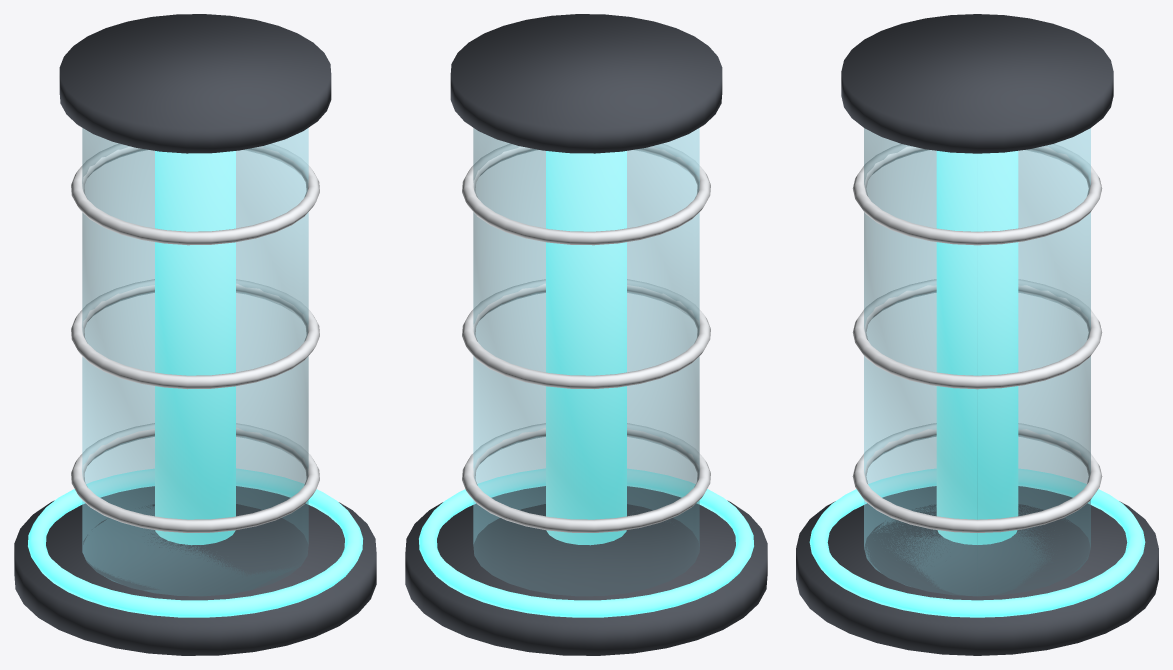
The model's file is reactor_core_plasma_column.glb.
3 views of the same model, side by side, from view 1: azimuth 30°, elevation 25°; view 2: azimuth 150°, elevation 25°; view 3: azimuth 270°, elevation 25° (orthographic).
Parts seen in each view (by area): view 1: GD_reactor_core_plasma_column__m2, GD_reactor_core_plasma_column__m0, GD_reactor_core_plasma_column__m1, GD_reactor_core_plasma_column__m3; view 2: GD_reactor_core_plasma_column__m2, GD_reactor_core_plasma_column__m0, GD_reactor_core_plasma_column__m1, GD_reactor_core_plasma_column__m3; view 3: GD_reactor_core_plasma_column__m2, GD_reactor_core_plasma_column__m0, GD_reactor_core_plasma_column__m1, GD_reactor_core_plasma_column__m3.
Part boxes in pixels (bbox=[...]): GD_reactor_core_plasma_column__m2: bbox=[82, 128, 308, 596]; GD_reactor_core_plasma_column__m0: bbox=[14, 14, 376, 655]; GD_reactor_core_plasma_column__m1: bbox=[28, 151, 362, 617]; GD_reactor_core_plasma_column__m3: bbox=[71, 143, 319, 532]; GD_reactor_core_plasma_column__m2: bbox=[473, 128, 699, 595]; GD_reactor_core_plasma_column__m0: bbox=[405, 14, 767, 655]; GD_reactor_core_plasma_column__m1: bbox=[419, 151, 753, 617]; GD_reactor_core_plasma_column__m3: bbox=[462, 143, 710, 532]; GD_reactor_core_plasma_column__m2: bbox=[864, 128, 1090, 596]; GD_reactor_core_plasma_column__m0: bbox=[796, 14, 1158, 655]; GD_reactor_core_plasma_column__m1: bbox=[809, 151, 1145, 617]; GD_reactor_core_plasma_column__m3: bbox=[852, 144, 1102, 532].
Size of the model in its own units: 1.6 by 2.47 by 1.6.
